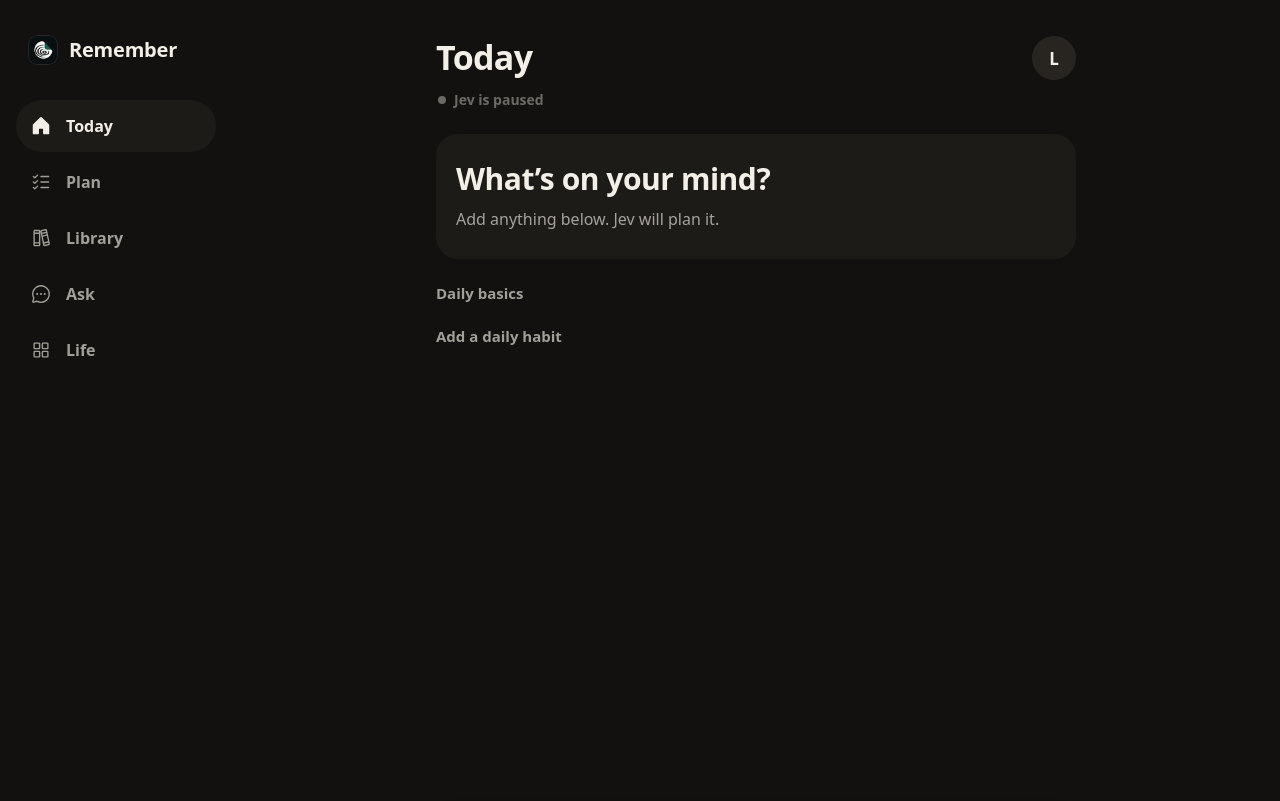
Test: Remember app › does not expose notification controls that are not implemented
Click the button named "Open settings": (1054,58) [1032,36,1076,80]
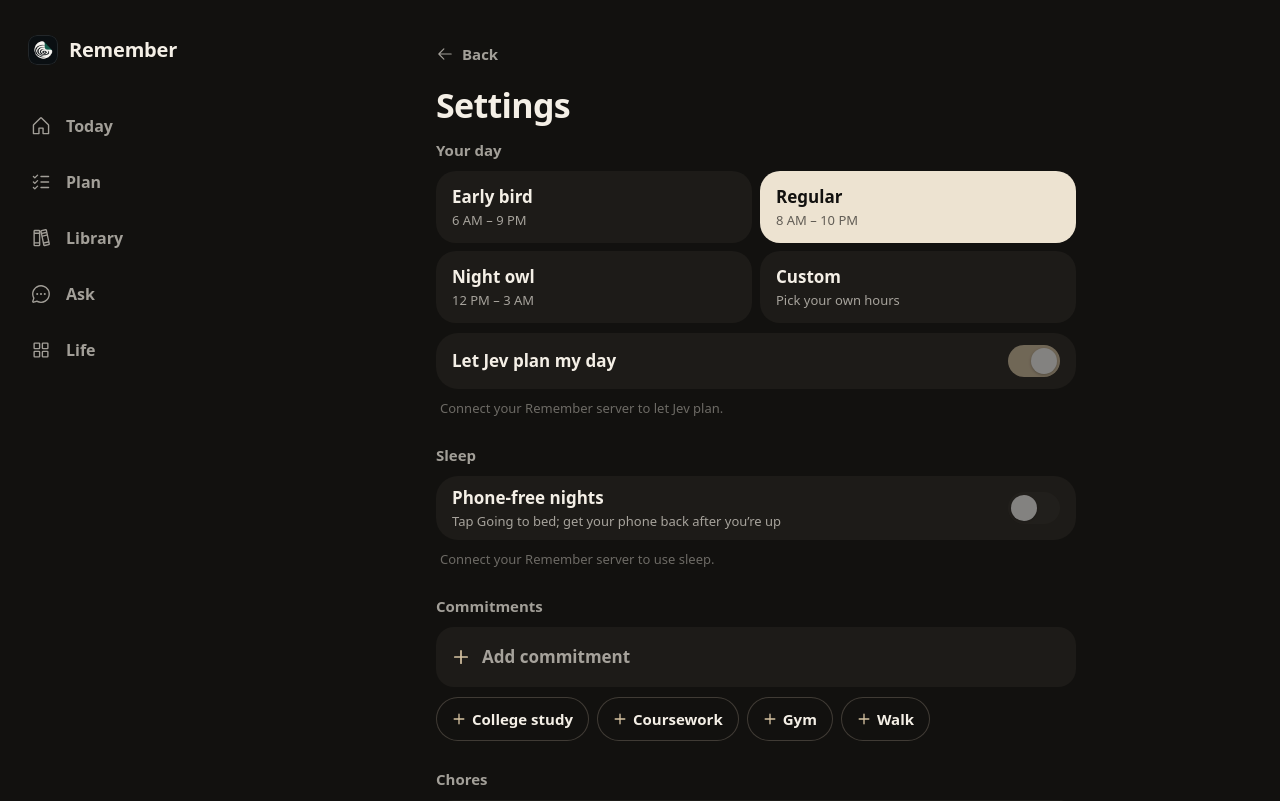
Result: the button "Back" is shown at [428,32,506,76]
